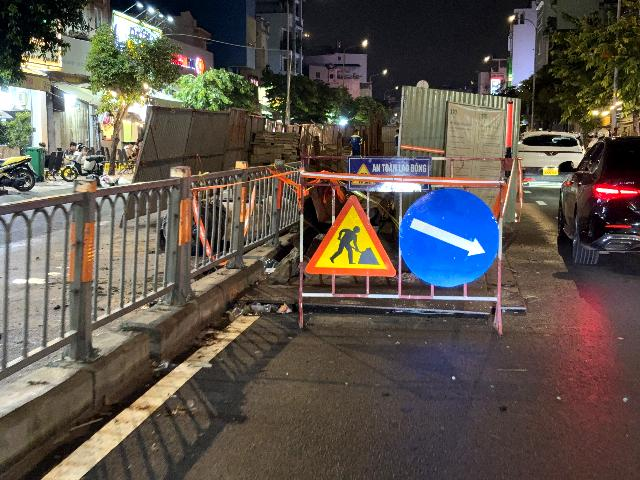cong-truong-dang-thi-cong: (306, 194, 396, 277)
huong-phai-di-vong-chuong-ngai-vat: (400, 187, 498, 288)
